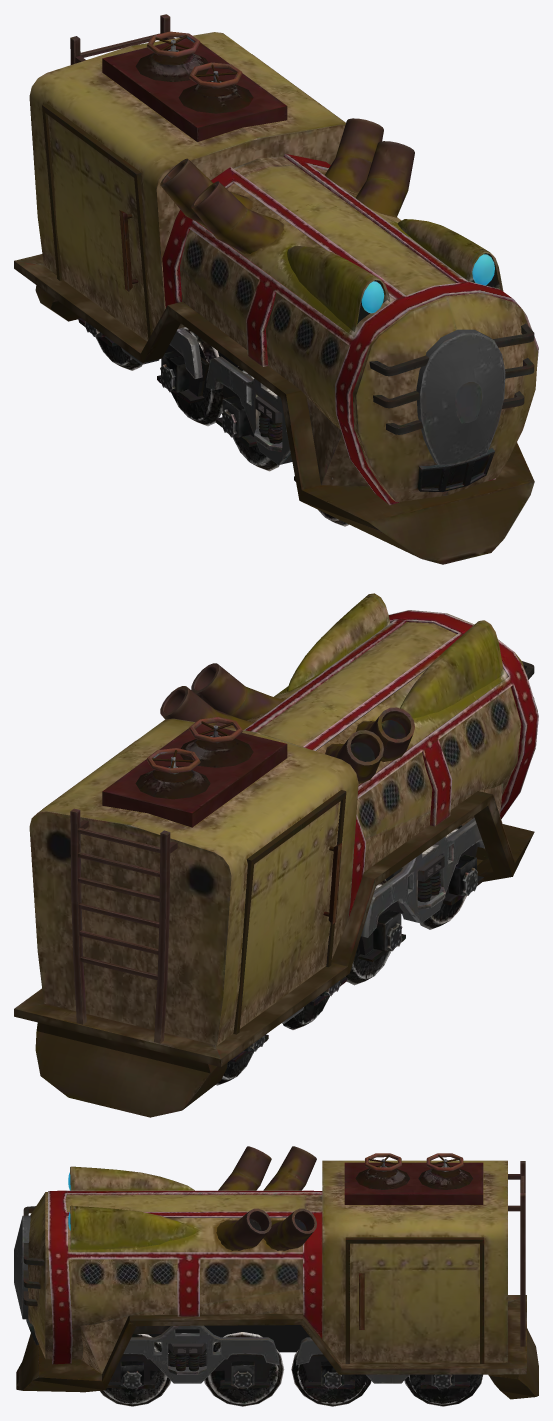
Rendered from minitrain (1)-compressed.glb.
3 renders of one model, top to bottom at view 1: azimuth 30°, elevation 25°; view 2: azimuth 150°, elevation 25°; view 3: azimuth 270°, elevation 25°, orthographic. The views are drawn at different scales.
Visible parts, largest first — view 1: 20_low, 10_low, 12_low, 30_low, 23_low, 28_low, 27_low, 11_low, 5_low, 32_low, 17_low, 3_low (+9 smaller); view 2: 10_low, 12_low, 20_low, 30_low, 27_low, 23_low, 14_low, 11_low, 5_low, 32_low, 8_low, 7_low (+5 smaller); view 3: 10_low, 20_low, 12_low, 30_low, 27_low, 23_low, 5_low, 11_low, 7_low, 32_low, 2_low, 9_low (+12 smaller).
Part boxes in pixels (left/top/right/bottom): 20_low: left=178, top=156, right=537, bottom=501; 10_low: left=29, top=32, right=345, bottom=341; 12_low: left=14, top=54, right=534, bottom=564; 30_low: left=162, top=153, right=538, bottom=504; 23_low: left=160, top=118, right=414, bottom=253; 28_low: left=416, top=329, right=505, bottom=465; 27_low: left=287, top=219, right=503, bottom=331; 11_low: left=102, top=38, right=287, bottom=141; 5_low: left=121, top=328, right=333, bottom=479; 32_low: left=135, top=48, right=253, bottom=113; 17_low: left=369, top=323, right=534, bottom=434; 3_low: left=171, top=327, right=223, bottom=426; 10_low: left=29, top=718, right=358, bottom=1045; 12_low: left=14, top=741, right=534, bottom=1117; 20_low: left=247, top=613, right=537, bottom=871; 30_low: left=244, top=610, right=538, bottom=917; 27_low: left=287, top=593, right=504, bottom=718; 23_low: left=160, top=663, right=414, bottom=783; 14_low: left=70, top=808, right=177, bottom=1043; 11_low: left=102, top=724, right=287, bottom=827; 5_low: left=281, top=818, right=484, bottom=1023; 32_low: left=135, top=734, right=253, bottom=799; 8_low: left=244, top=854, right=476, bottom=1051; 7_low: left=230, top=843, right=484, bottom=1062; 10_low: left=322, top=1160, right=507, bottom=1362; 20_low: left=28, top=1192, right=322, bottom=1359; 12_low: left=16, top=1237, right=538, bottom=1399; 30_low: left=48, top=1190, right=322, bottom=1364; 27_low: left=70, top=1166, right=196, bottom=1249; 23_low: left=216, top=1146, right=316, bottom=1250; 5_low: left=123, top=1325, right=409, bottom=1383; 11_low: left=344, top=1162, right=483, bottom=1204; 7_low: left=107, top=1353, right=469, bottom=1388; 32_low: left=355, top=1165, right=472, bottom=1189; 2_low: left=204, top=1332, right=284, bottom=1406; 9_low: left=145, top=1325, right=309, bottom=1352.
Size of the model in its own units: 1.89 by 2.57 by 5.36.
Materials: 1 (1 with a texture image).
